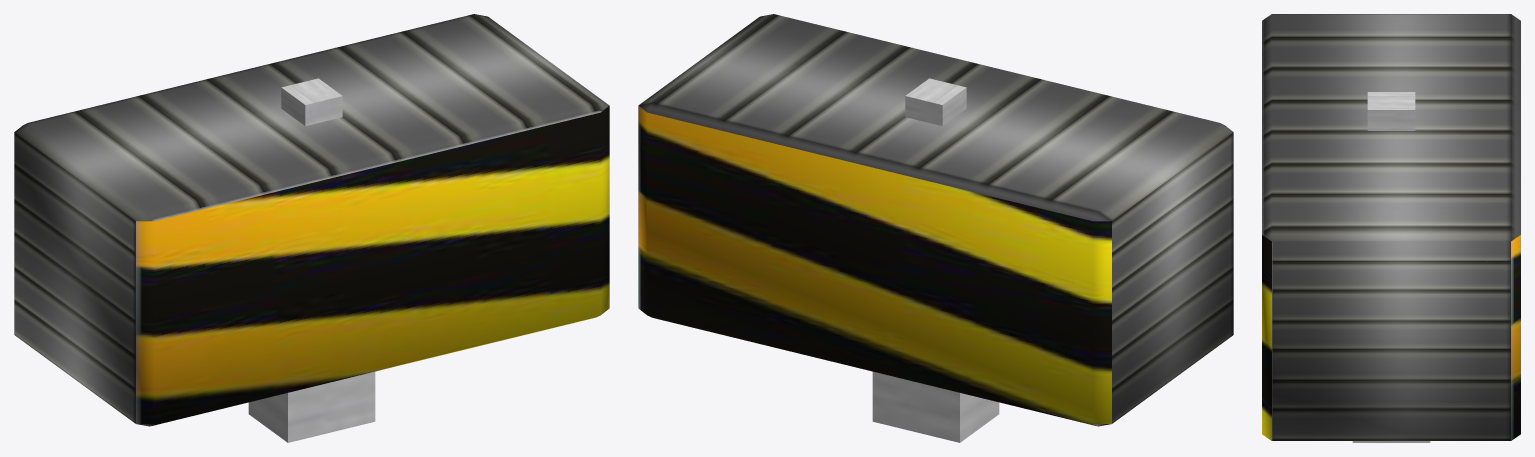
File: HammerLvl3.FBX
The picture shows the model from 3 angles, left to right: view 1: azimuth 30°, elevation 25°; view 2: azimuth 150°, elevation 25°; view 3: azimuth 270°, elevation 25°; orthographic projection.
Parts seen in each view (by area): view 1: Hammer_Lvl3; view 2: Hammer_Lvl3; view 3: Hammer_Lvl3.
Part boxes in pixels (x1=…): Hammer_Lvl3: x1=14, y1=14, x2=609, y2=442; Hammer_Lvl3: x1=638, y1=14, x2=1233, y2=442; Hammer_Lvl3: x1=1262, y1=14, x2=1520, y2=442.
Size of the model in its own units: 30.65 by 20.17 by 14.74.
